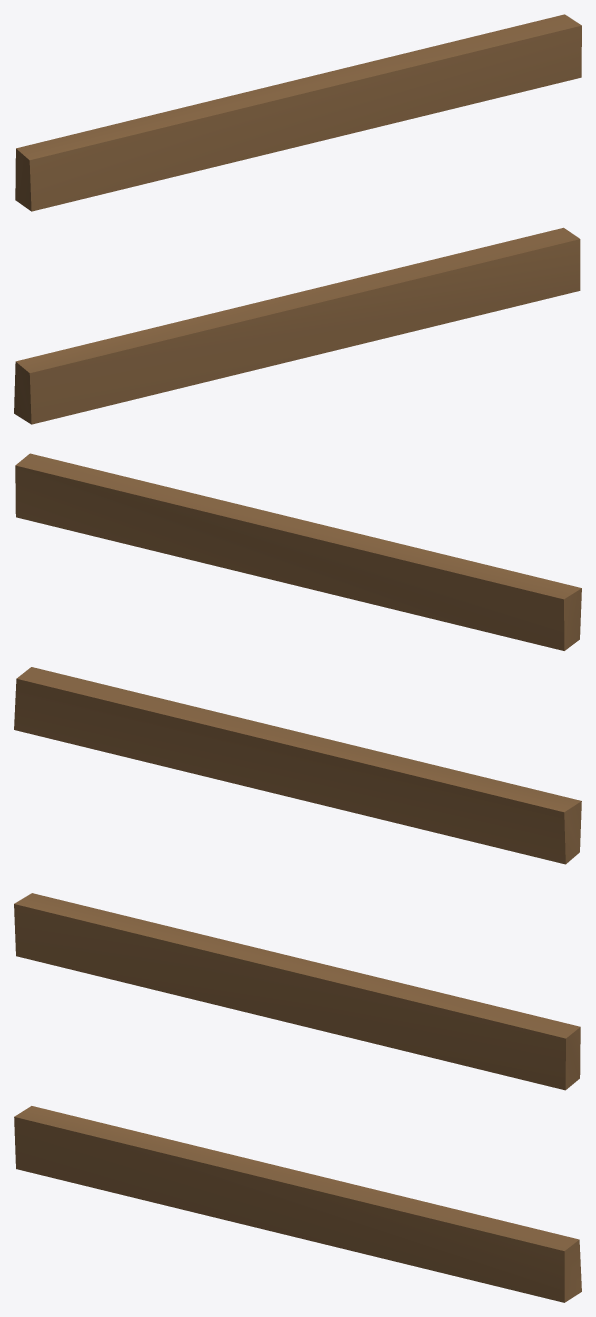
File: fence_rail.glb
3 views of the same model, one above another, from view 1: azimuth 30°, elevation 25°; view 2: azimuth 150°, elevation 25°; view 3: azimuth 330°, elevation 25° (orthographic).
Visible parts, largest first — view 1: FenceRail; view 2: FenceRail; view 3: FenceRail.
Boxes of the visible parts, x1,y1,x2,y2 form: FenceRail: (14, 14, 581, 424); FenceRail: (14, 453, 581, 864); FenceRail: (14, 893, 581, 1302).
Bounding box in the file's own units: 1 × 0.4604 × 0.0502.
